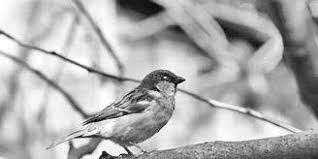hsparrow: (32, 67, 192, 159)
